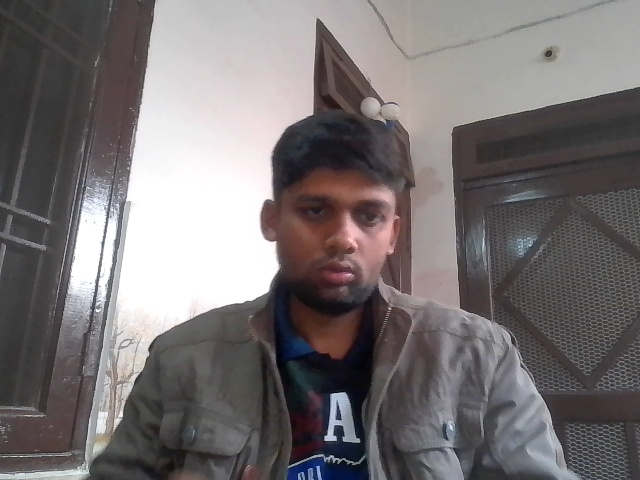No: (166, 393, 417, 480)
